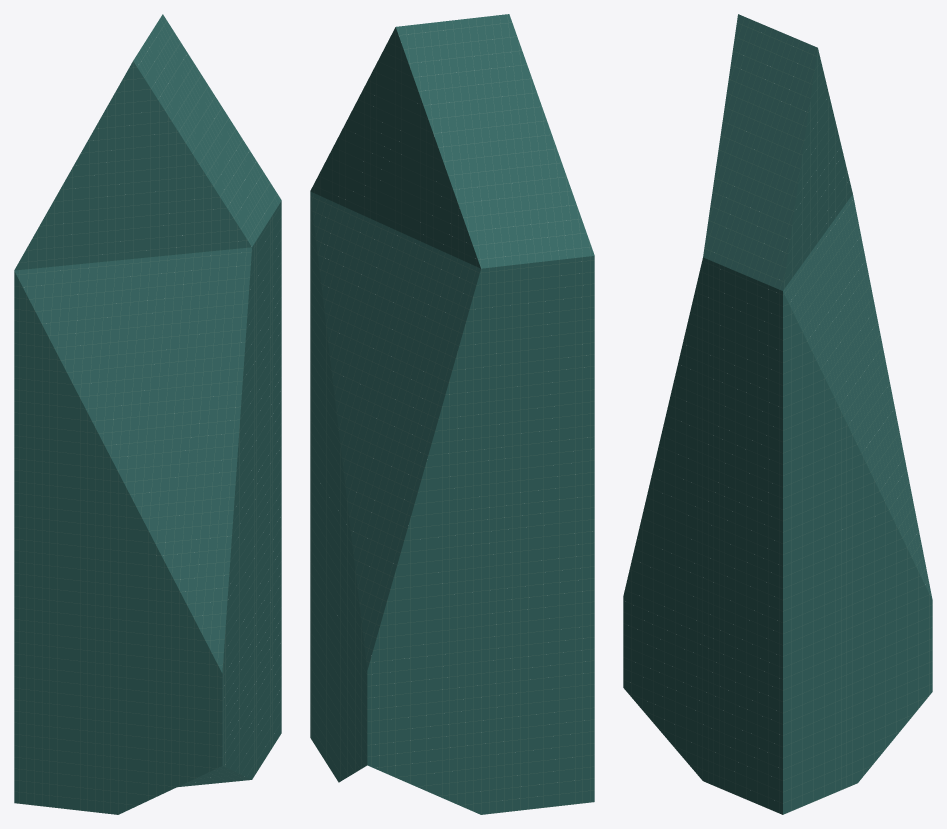
Rendered from fountain-place-near.glb.
3 views of the same model, side by side, from view 1: azimuth 30°, elevation 25°; view 2: azimuth 150°, elevation 25°; view 3: azimuth 270°, elevation 25° (orthographic). The views are drawn at different scales.
Visible parts, largest first — view 1: fountain-place-0-glass, fountain-place-0-facet, fountain-place-0-mullion, fountain-place-0-office; view 2: fountain-place-0-glass, fountain-place-0-facet, fountain-place-0-mullion, fountain-place-0-office; view 3: fountain-place-0-glass, fountain-place-0-facet, fountain-place-0-mullion, fountain-place-0-office.
Boxes of the visible parts, bbox=[...] form: fountain-place-0-glass: bbox=[14, 61, 281, 814]; fountain-place-0-facet: bbox=[14, 14, 281, 786]; fountain-place-0-mullion: bbox=[14, 20, 281, 814]; fountain-place-0-office: bbox=[14, 244, 281, 810]; fountain-place-0-glass: bbox=[310, 27, 594, 814]; fountain-place-0-facet: bbox=[310, 14, 594, 669]; fountain-place-0-mullion: bbox=[310, 14, 594, 814]; fountain-place-0-office: bbox=[310, 237, 594, 807]; fountain-place-0-glass: bbox=[623, 49, 932, 814]; fountain-place-0-facet: bbox=[703, 14, 932, 599]; fountain-place-0-mullion: bbox=[623, 15, 932, 814]; fountain-place-0-office: bbox=[623, 277, 928, 814].
Bounding box in the file's own units: 85.7 × 220 × 85.7.
